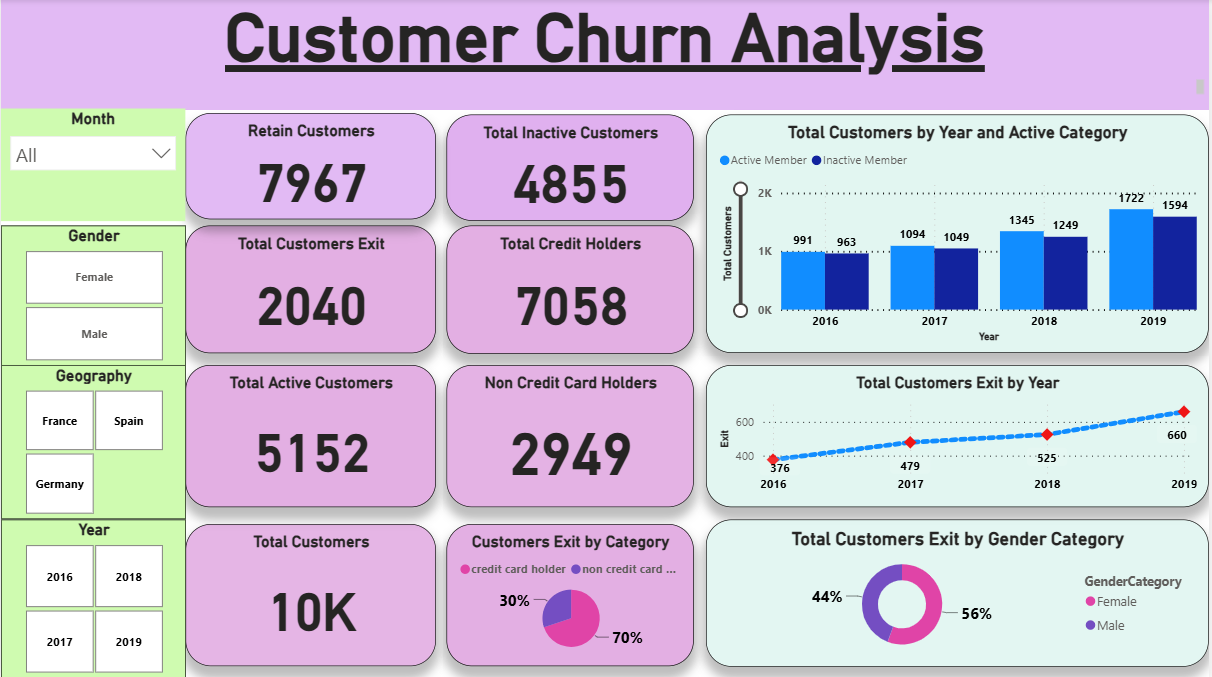

What the dashboard file says about the page in this screenshot:
{"tool":"powerbi","page":{"name":"Churn Analysis","canvas":[1280,720],"ordinal":0},"visuals":[{"type":"card","title":"Total Customers Exit","fields":{"Values":["Bank_Churn.Total_Customers_Exit"]},"box":[195.5,240,265.4,135.1],"z":0},{"type":"card","title":"Total Customers","fields":{"Values":["Bank_Churn.Total_Customers"]},"box":[195.5,556.3,265.4,151],"z":1000},{"type":"card","title":"Total Active Customers","fields":{"Values":["Bank_Churn.Total_Acive_Customers"]},"box":[195.5,387.8,265.4,151],"z":2000},{"type":"card","title":"Total Inactive Customers","fields":{"Values":["Bank_Churn.Total_Inactive_Customers"]},"box":[472.1,122.4,262.3,112.8],"z":3000},{"type":"card","title":"Total Credit Holders","fields":{"Values":["Bank_Churn.Total_Credit_Holders"]},"box":[472.4,239.5,262.1,135.9],"z":4000},{"type":"card","title":"Non Credit Card Holders","fields":{"Values":["Bank_Churn.Non_Credit_Card_Holders"]},"box":[472.4,388.3,262.1,150.5],"z":5000},{"type":"card","title":"Retain Customers","fields":{"Values":["Bank_Churn.Retain_Customers"]},"box":[195.5,120.8,265.4,112.8],"z":6000},{"type":"textbox","title":"Customer Churn Analysis","box":[0,0,1279.8,116.5],"z":7000},{"type":"clusteredColumnChart","title":"Total Customers by Year and Active Category","fields":{"Y":["Bank_Churn.Total_Customers"],"Category":["Bank_Churn.Bank DOJ.Variation.Date Hierarchy.Year"],"Series":["Customer Active Status.ActiveCategory"]},"box":[747,122.4,532.5,252.7],"z":8000},{"type":"lineChart","title":"Total Customers Exit by Year","fields":{"Category":["Bank_Churn.Bank DOJ.Variation.Date Hierarchy.Year"],"Y":["Bank_Churn.Total_Customers_Exit"]},"box":[747,387.8,532.5,151],"z":9000},{"type":"donutChart","title":"Total Customers Exit by Gender Category","fields":{"Category":["Gender.GenderCategory"],"Y":["Bank_Churn.Total_Customers_Exit"]},"box":[747,551.5,532.5,155.8],"z":10000},{"type":"pieChart","title":"Customers Exit by Category","fields":{"Category":["Credit Db.Category"],"Y":["Bank_Churn.Total_Customers_Exit"]},"box":[472.4,556.6,262.1,150.5],"z":11000},{"type":"slicer","title":"Gender ","fields":{"Values":["Gender.GenderCategory"]},"box":[0,239.5,195.8,148.9],"z":12000},{"type":"slicer","title":"Geography","fields":{"Values":["Geography.GeographyLocation"]},"box":[0,388.3,195.8,163.4],"z":13000},{"type":"slicer","title":"Year","fields":{"Values":["Bank_Churn.Bank DOJ.Variation.Date Hierarchy.Year"]},"box":[0,551.7,195.8,168.3],"z":14000},{"type":"slicer","title":"Month","fields":{"Values":["Bank_Churn.Bank DOJ.Variation.Date Hierarchy.Month"]},"box":[0,116,195.5,119.2],"z":15000}]}

Visuals, with their boxes in screenshot pixels (x1, y1, x2, y2), scaled from the page's 1280x720 canvas onto the 1212x677 screenshot:
"Total Customers Exit" card: <bbox>185, 226, 436, 353</bbox>
"Total Customers" card: <bbox>185, 523, 436, 665</bbox>
"Total Active Customers" card: <bbox>185, 365, 436, 507</bbox>
"Total Inactive Customers" card: <bbox>447, 115, 695, 221</bbox>
"Total Credit Holders" card: <bbox>447, 225, 695, 353</bbox>
"Non Credit Card Holders" card: <bbox>447, 365, 695, 507</bbox>
"Retain Customers" card: <bbox>185, 114, 436, 220</bbox>
"Customer Churn Analysis" textbox: <bbox>0, 0, 1211, 110</bbox>
"Total Customers by Year and Active Category" clusteredColumnChart: <bbox>707, 115, 1211, 353</bbox>
"Total Customers Exit by Year" lineChart: <bbox>707, 365, 1211, 507</bbox>
"Total Customers Exit by Gender Category" donutChart: <bbox>707, 519, 1211, 665</bbox>
"Customers Exit by Category" pieChart: <bbox>447, 523, 695, 665</bbox>
"Gender " slicer: <bbox>0, 225, 185, 365</bbox>
"Geography" slicer: <bbox>0, 365, 185, 519</bbox>
"Year" slicer: <bbox>0, 519, 185, 676</bbox>
"Month" slicer: <bbox>0, 109, 185, 221</bbox>
